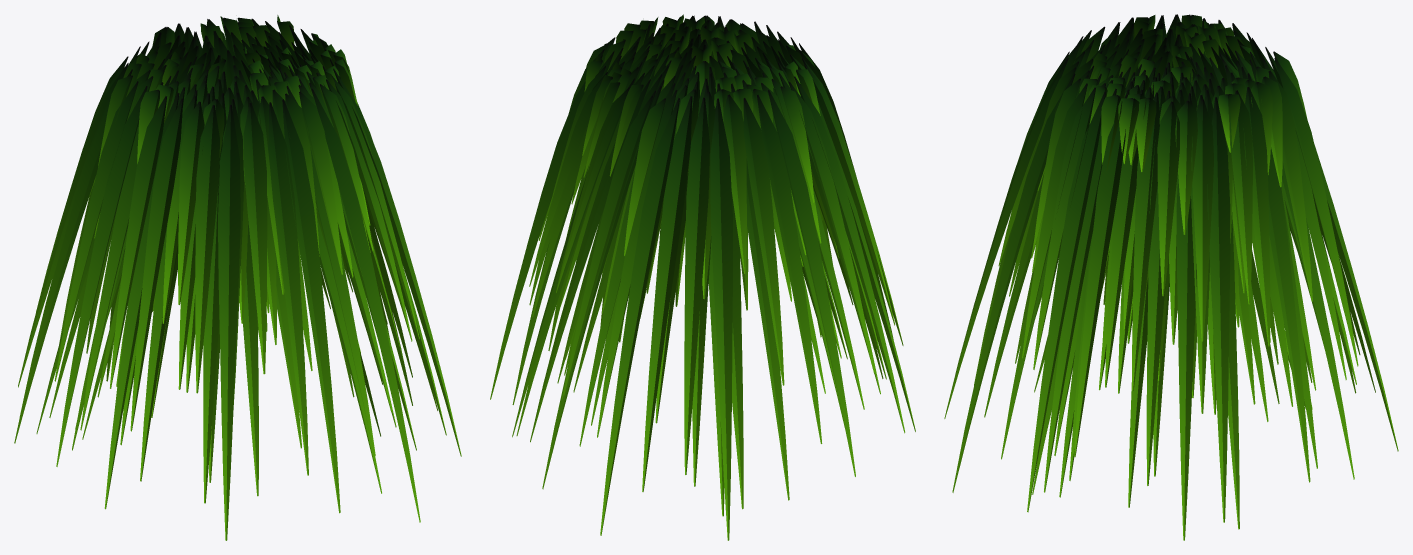
Rendered from Grass clump two.fbx.
The picture shows the model from 3 angles, left to right: view 1: azimuth 30°, elevation 25°; view 2: azimuth 150°, elevation 25°; view 3: azimuth 270°, elevation 25°; orthographic projection. The views are drawn at different scales.
Parts seen in each view (by area): view 1: grass_clump; view 2: grass_clump; view 3: grass_clump.
Boxes of the visible parts, x1,y1,x2,y2 form: grass_clump: [14, 15, 461, 540]; grass_clump: [490, 14, 915, 540]; grass_clump: [944, 14, 1398, 540].
Size of the model in its own units: 1.38 by 1.4 by 1.44.
